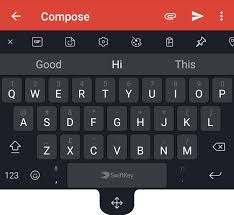keyboard: (2, 74, 233, 187)
